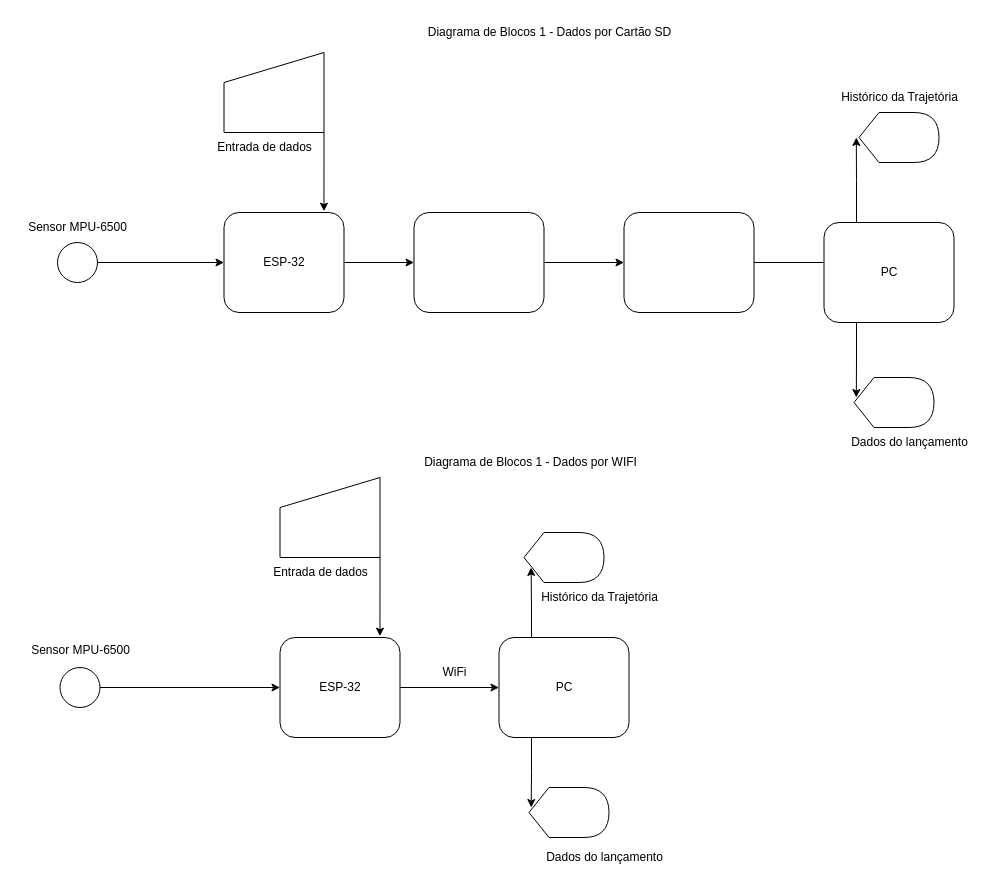
This 996x889 diagram has some shape labels left out. Here are the shapes that lost their labels. From the top down, the centre of each, then its label:
At (x=478, y=262): "Módulo Leitor de Cartão SD".
At (x=688, y=262): "Cartão SD".
